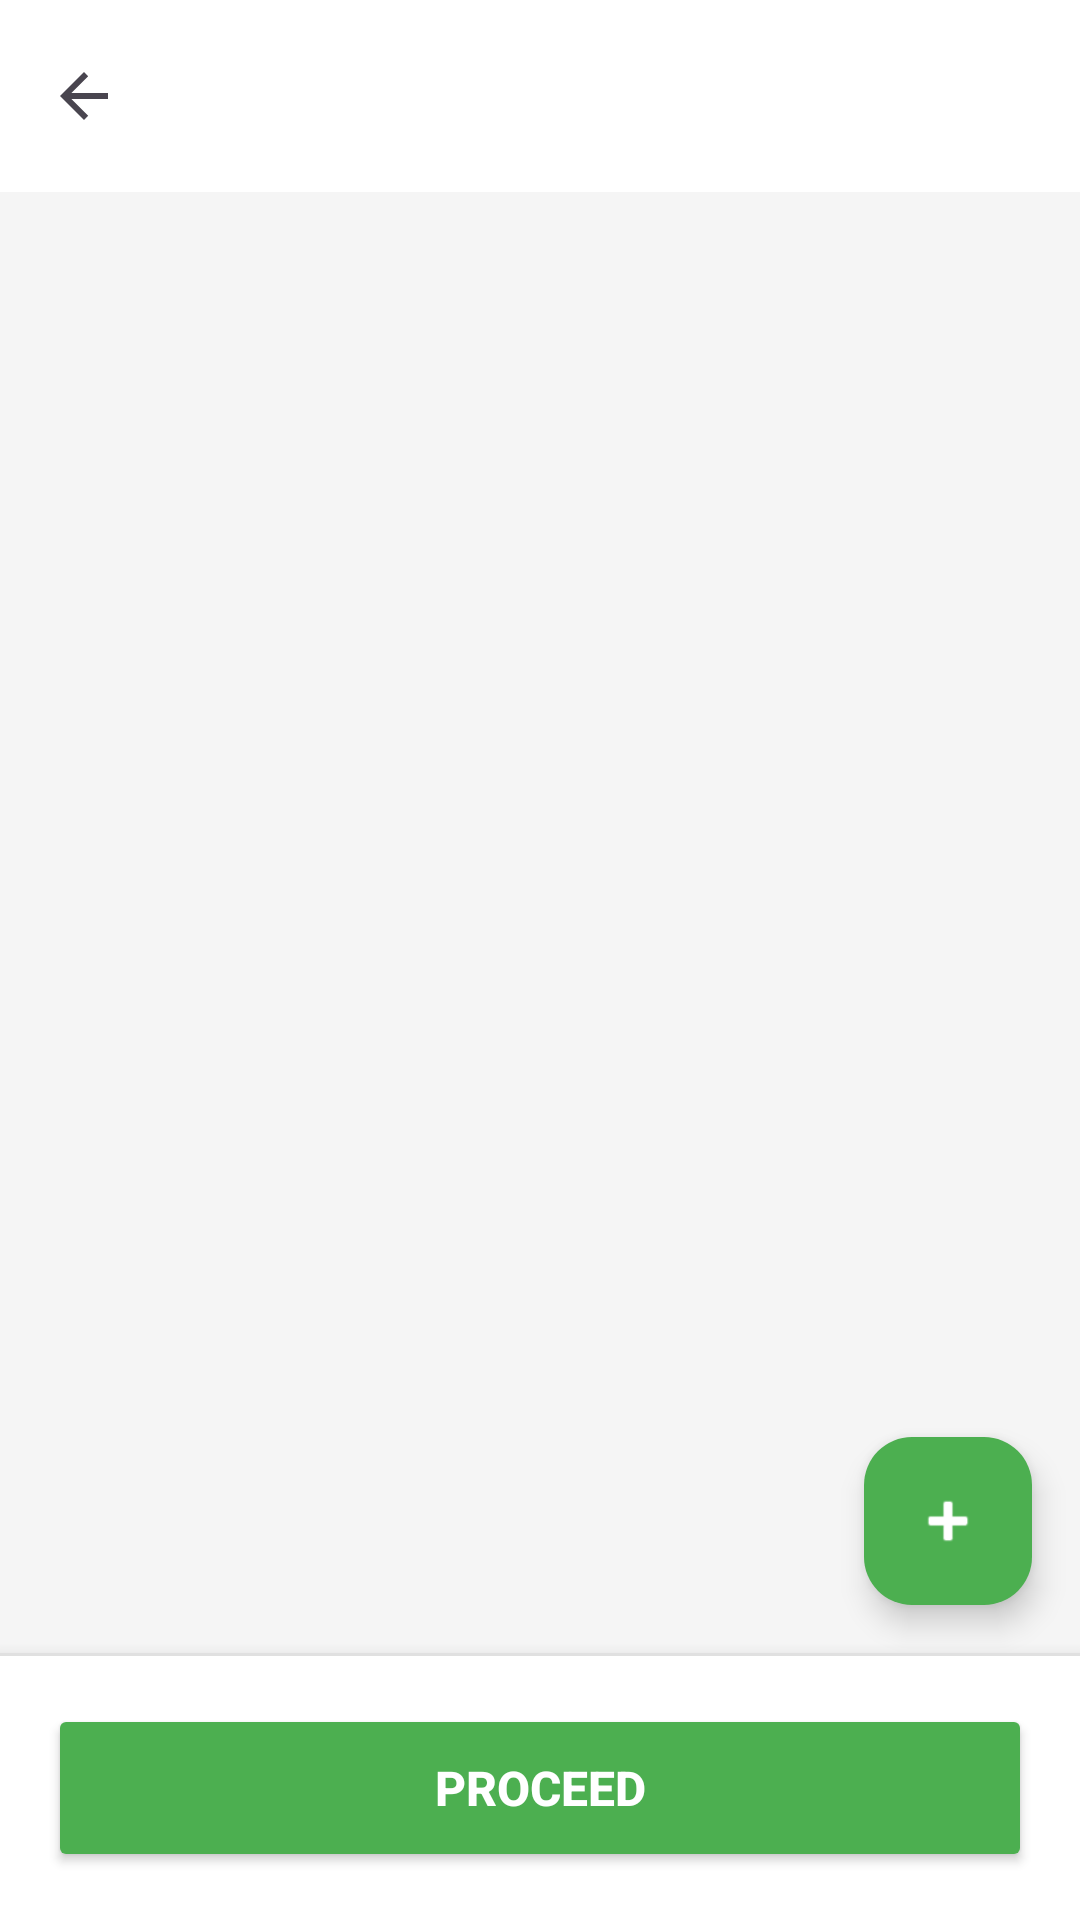

Locate icon controls on the screen. Image size 1080px x 1920px, boxes as (x1, y1, x2, y2).
Add Address: (864, 1437, 1032, 1605)
